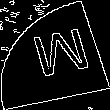M_S: (20, 24, 90, 86)
